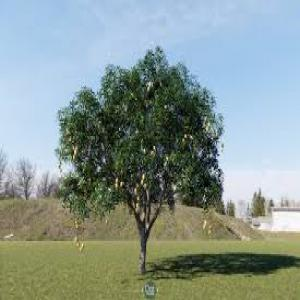Tree: (54, 43, 222, 272)
